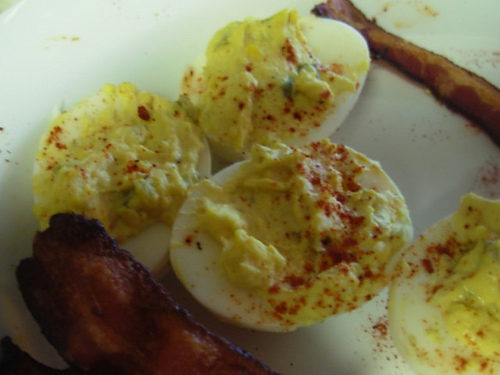egg: (168, 140, 415, 331), (33, 83, 211, 280), (182, 9, 373, 161)
